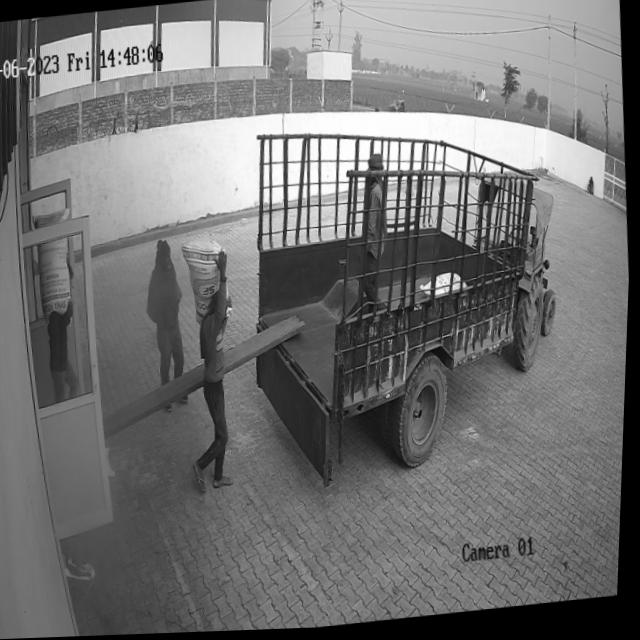sack: (29, 209, 79, 325), (179, 237, 229, 329)
